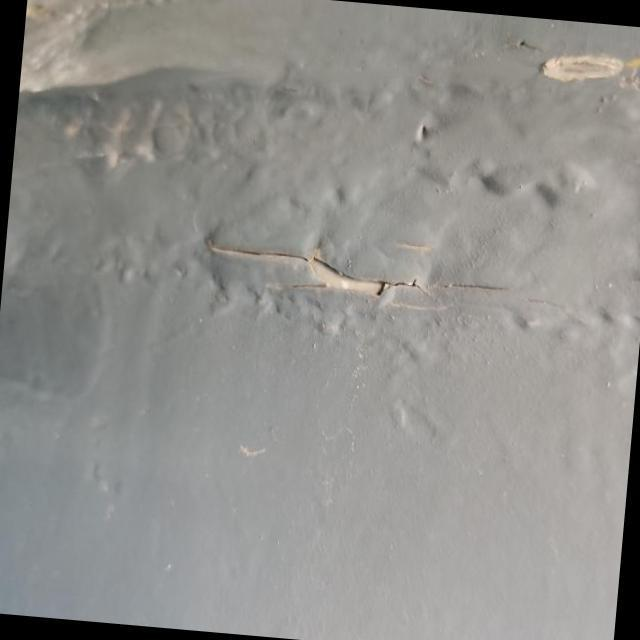Rupture: (189, 211, 441, 328)
